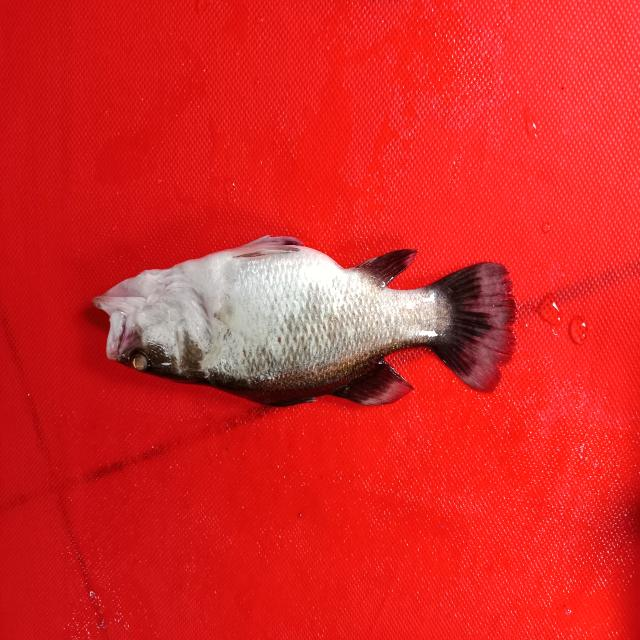ikan: (89, 216, 533, 433)
